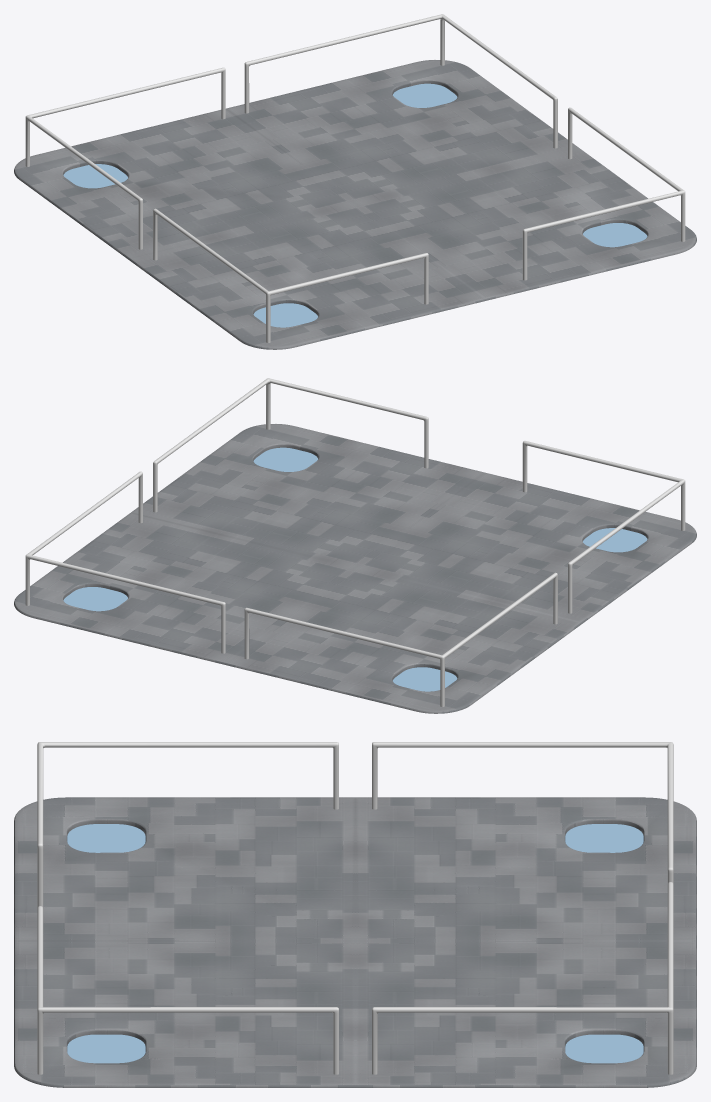
The model's file is platform.glb.
3 renders of one model, top to bottom at view 1: azimuth 30°, elevation 25°; view 2: azimuth 150°, elevation 25°; view 3: azimuth 270°, elevation 25°, orthographic. The views are drawn at different scales.
Parts seen in each view (by area): view 1: Cylinder_Floor_0, Cylinder_Railing Metal_0, Cylinder_Water for Eevee_0; view 2: Cylinder_Floor_0, Cylinder_Railing Metal_0, Cylinder_Water for Eevee_0; view 3: Cylinder_Floor_0, Cylinder_Railing Metal_0, Cylinder_Water for Eevee_0.
Boxes of the visible parts, x1,y1,x2,y2 form: Cylinder_Floor_0: [14, 60, 696, 349]; Cylinder_Railing Metal_0: [25, 14, 685, 342]; Cylinder_Water for Eevee_0: [63, 83, 647, 327]; Cylinder_Floor_0: [14, 424, 696, 713]; Cylinder_Railing Metal_0: [25, 378, 685, 706]; Cylinder_Water for Eevee_0: [63, 447, 647, 691]; Cylinder_Floor_0: [14, 797, 696, 1087]; Cylinder_Railing Metal_0: [37, 742, 673, 1074]; Cylinder_Water for Eevee_0: [67, 824, 643, 1063].
Size of the model in its own units: 6 by 0.7096 by 6.
4 materials, 1 textured.
